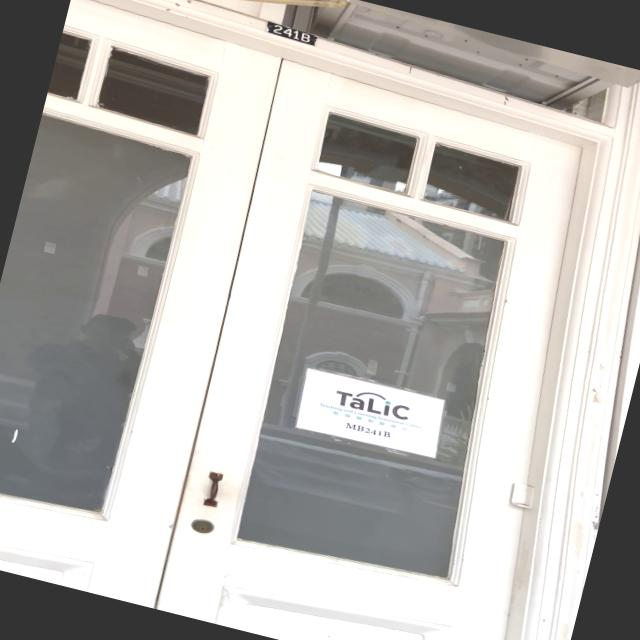room241b: (262, 18, 320, 46)
